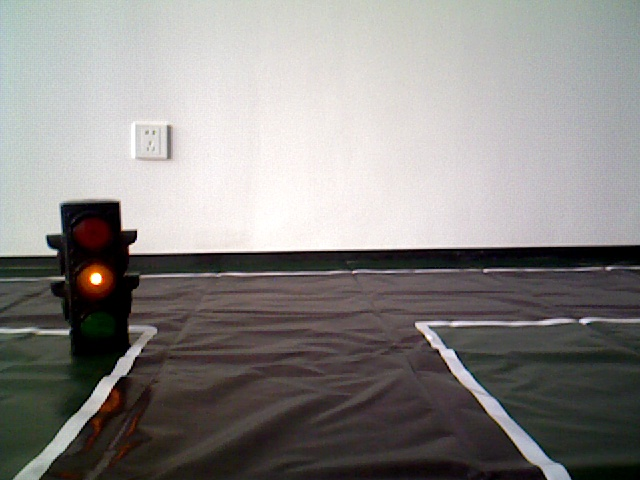yellow: (66, 203, 131, 352)
